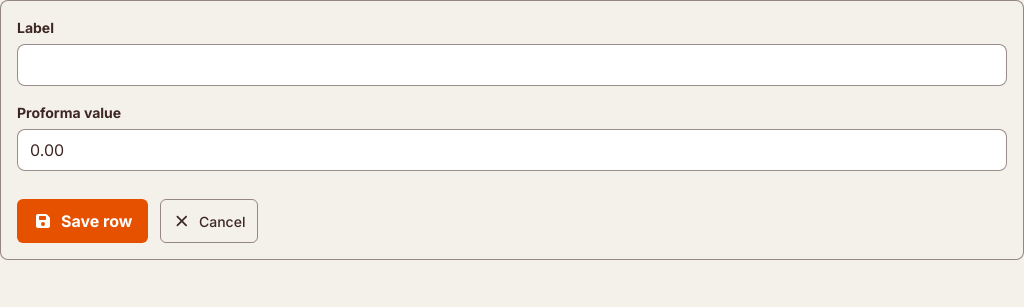
it: AddLineItemForm › requires label in planning mode
Click the button with test id "add-line-item-submit" at [83, 221], box [17,199,148,243]
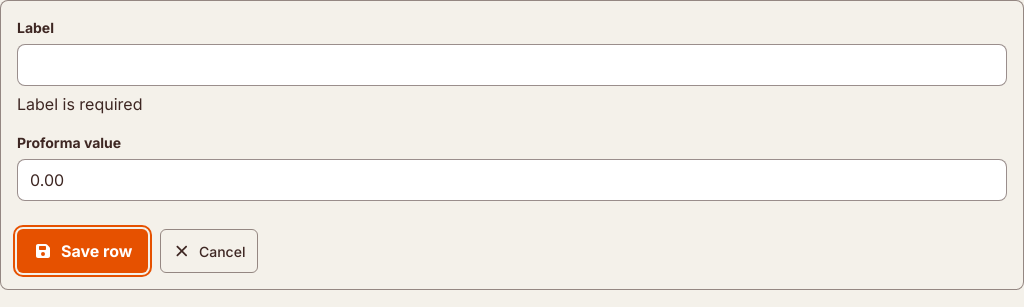
Now the message reads "Label is required", box [17,94,142,114]
